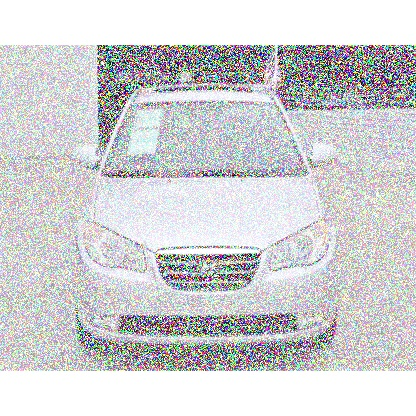Vehicle: (70, 84, 342, 350)
